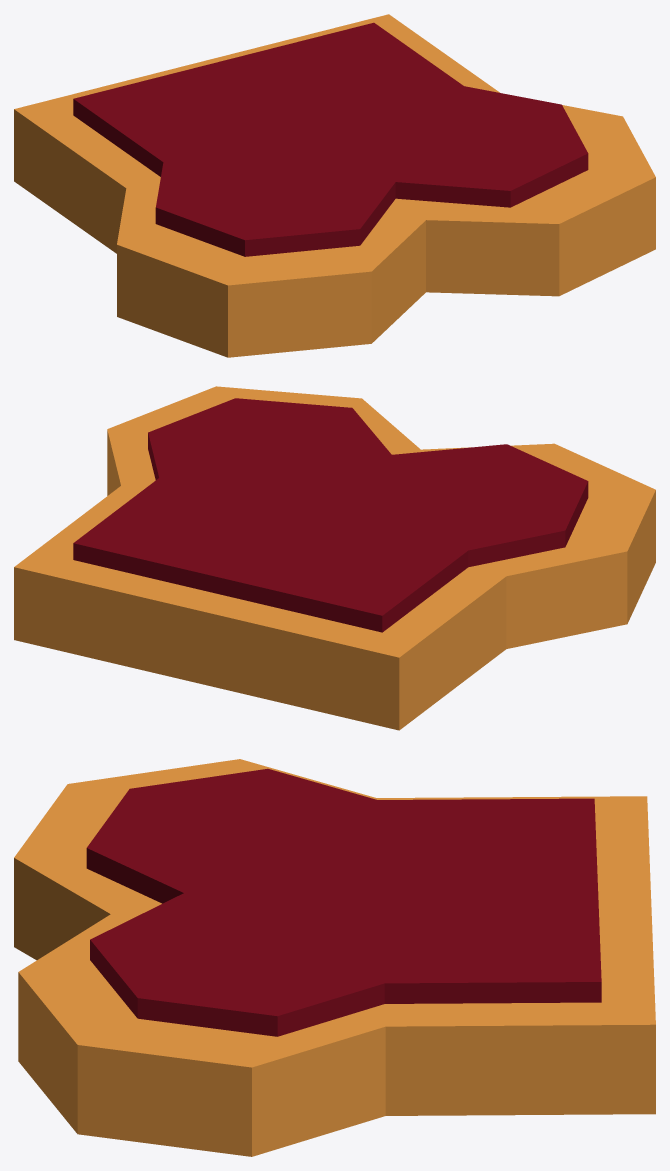
File: toast.obj
The picture shows the model from 3 angles, top to bottom: view 1: azimuth 30°, elevation 25°; view 2: azimuth 150°, elevation 25°; view 3: azimuth 270°, elevation 25°; orthographic projection. The views are drawn at different scales.
Visible parts, largest first — view 1: Plane_Mesh; view 2: Plane_Mesh; view 3: Plane_Mesh.
Boxes of the visible parts, box(x1,y1,x2,y2) form: Plane_Mesh: box(14, 14, 655, 357); Plane_Mesh: box(14, 386, 655, 730); Plane_Mesh: box(14, 759, 655, 1156).
Bounding box in the file's own units: 0.185 × 0.0308 × 0.1627.
